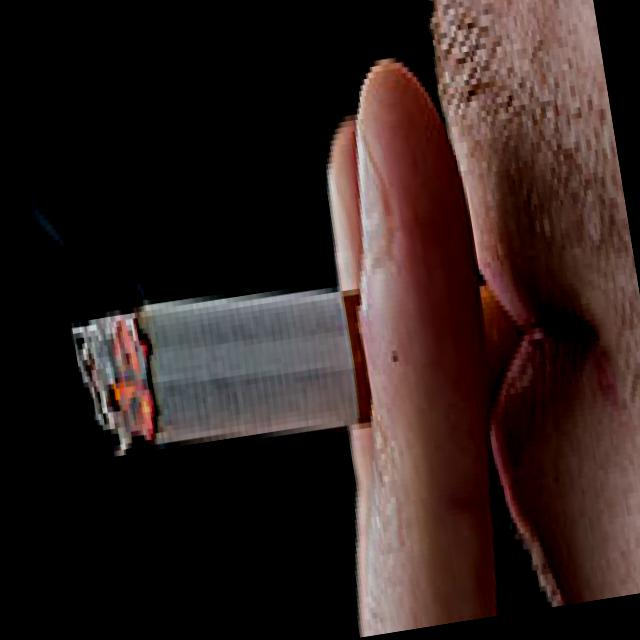cigarette: (47, 213, 555, 525)
